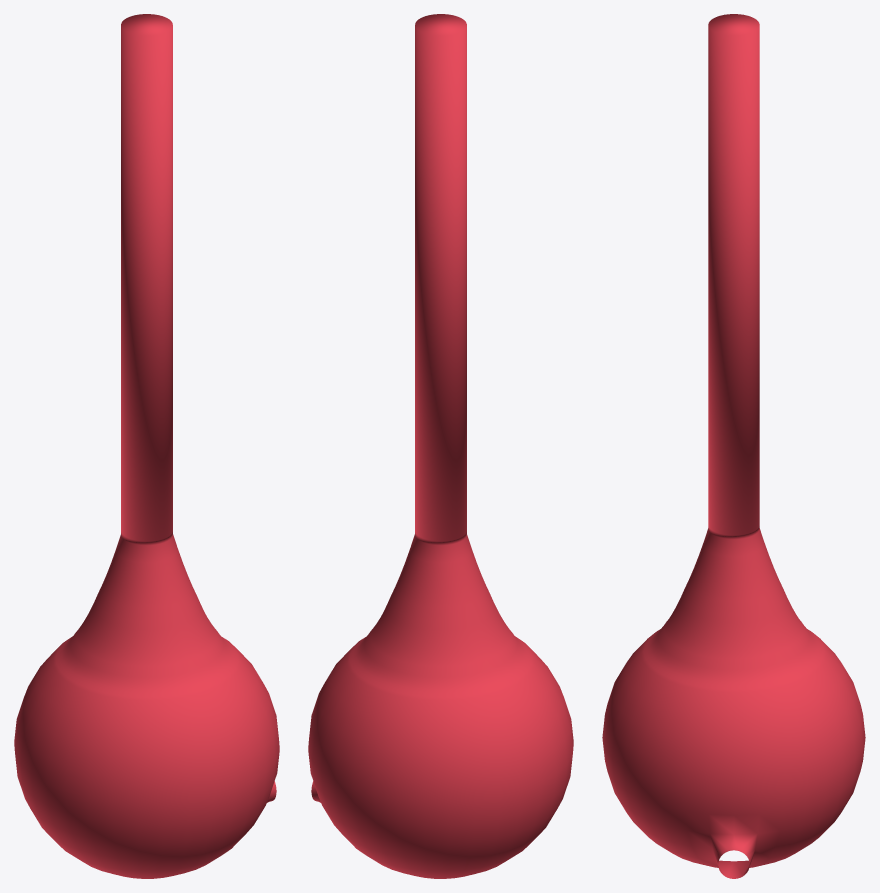
Rendered from Matraz2.fbx.
3 renders of one model, left to right at view 1: azimuth 30°, elevation 25°; view 2: azimuth 150°, elevation 25°; view 3: azimuth 270°, elevation 25°, orthographic.
Parts seen in each view (by area): view 1: Sphere.001; view 2: Sphere.001; view 3: Sphere.001.
Part boxes in pixels (x1,y1,x2,y2): Sphere.001: [14, 14, 279, 878]; Sphere.001: [308, 14, 573, 878]; Sphere.001: [602, 14, 865, 878].
Size of the model in its own units: 4726 by 15872 by 4600.
